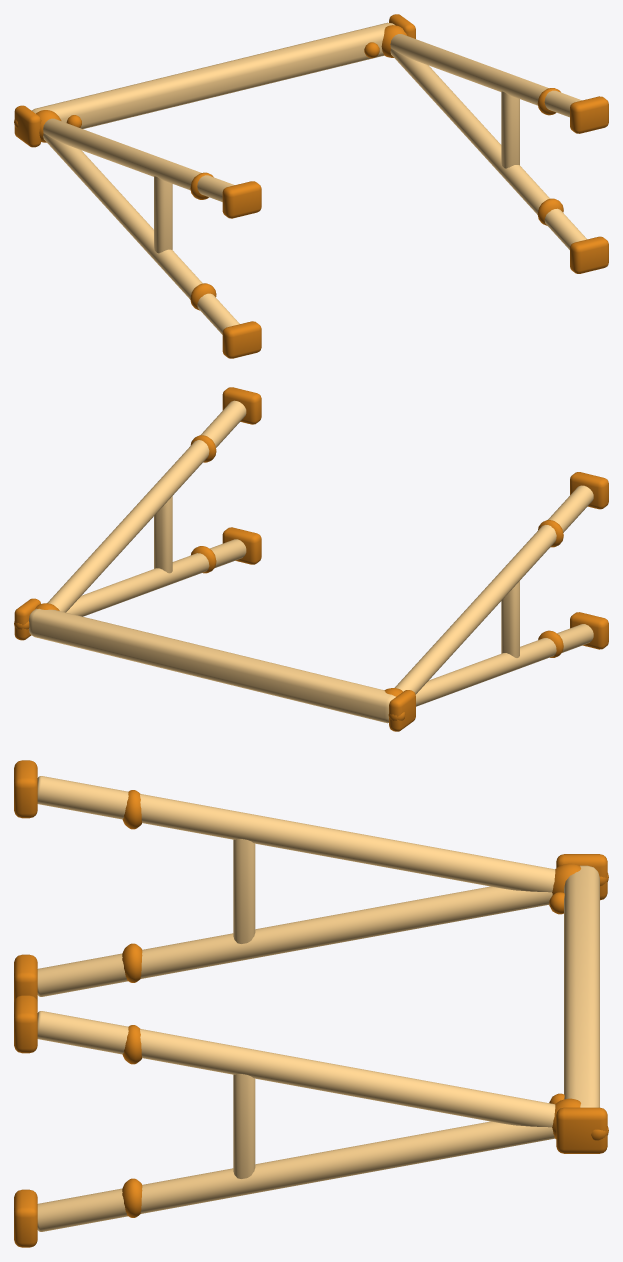
Rendered from PatioPorchSwing_Premium.fbx.
3 views of the same model, one above another, from view 1: azimuth 30°, elevation 25°; view 2: azimuth 150°, elevation 25°; view 3: azimuth 270°, elevation 25° (orthographic). The views are drawn at different scales.
Parts seen in each view (by area): view 1: PorchSwingFrame; view 2: PorchSwingFrame; view 3: PorchSwingFrame.
Boxes of the visible parts, x1,y1,x2,y2 form: PorchSwingFrame: (14,14,608,358); PorchSwingFrame: (14,387,608,731); PorchSwingFrame: (14,760,608,1247).
Size of the model in its own units: 1.57 by 0.65 by 1.5.
